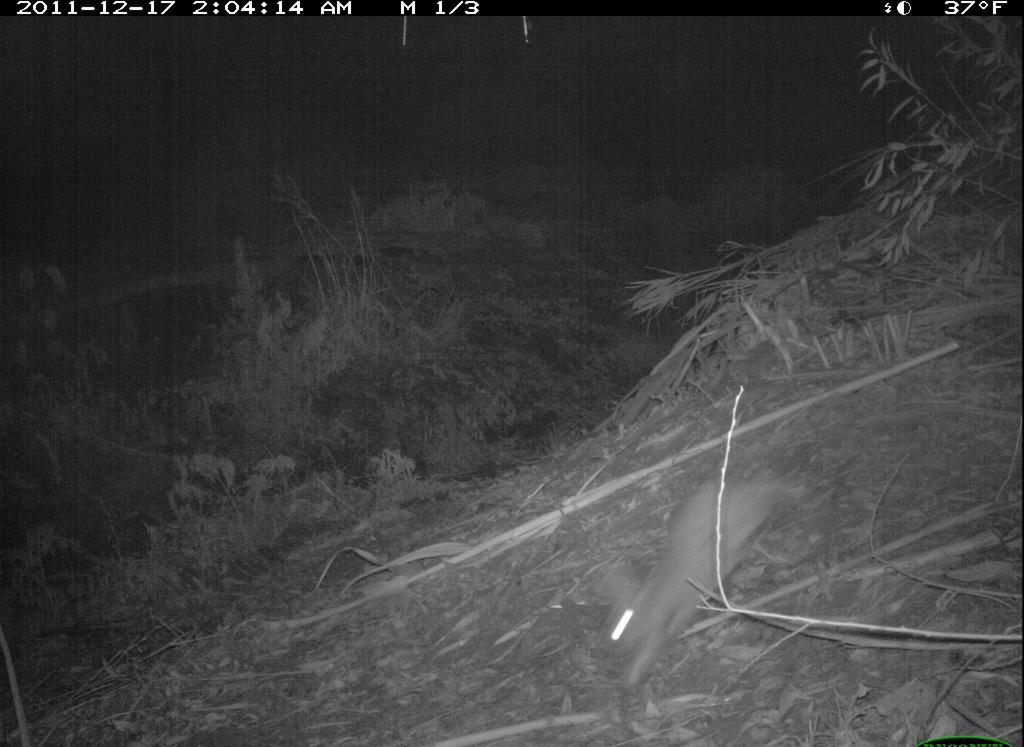rabbit: (577, 461, 811, 705)
